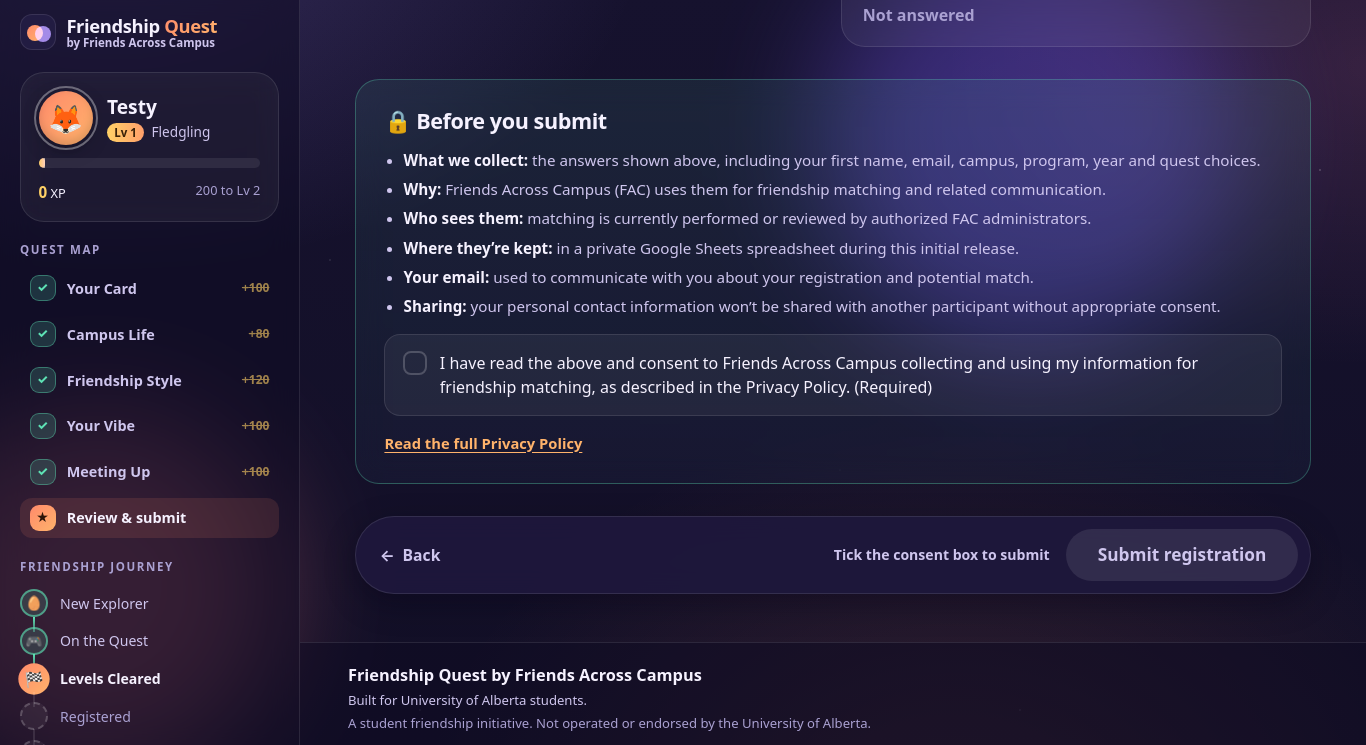
Test: review and submit › needs the consent box, which starts unchecked
This screenshot has width=1366, height=745.
(page scrolled)
Expected: the button "Submit registration" is disabled, [1066,528,1298,581]
What coordinates should you click on to do the following:
click the checkbox
I would click on:
 (833, 375)
Its box is [384,334,1282,416].
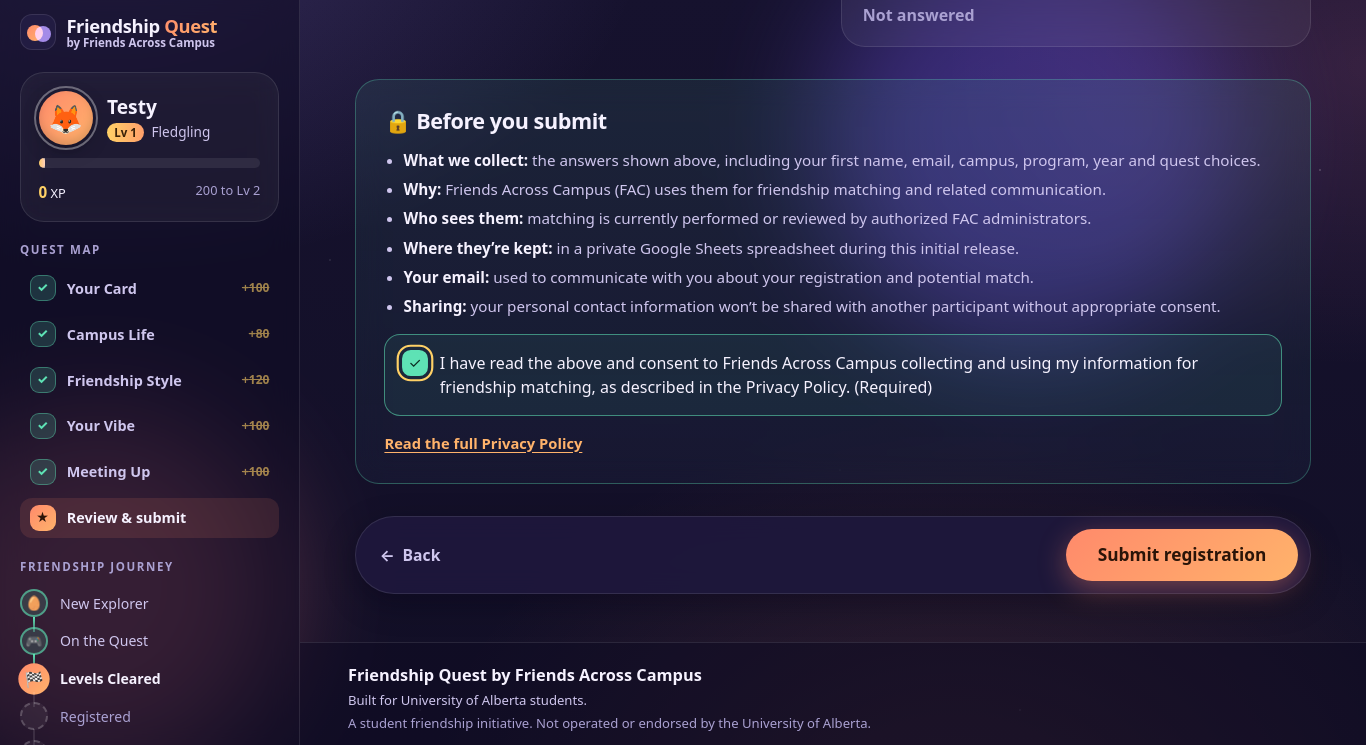
Expected: the button "Submit registration" is enabled, [1066,528,1298,581]
